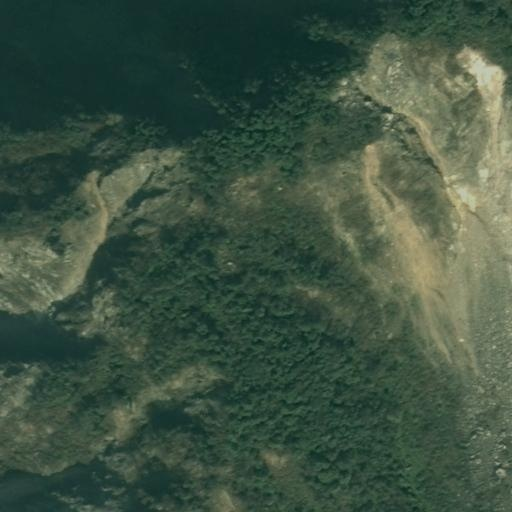landslide: (336, 35, 507, 369)
